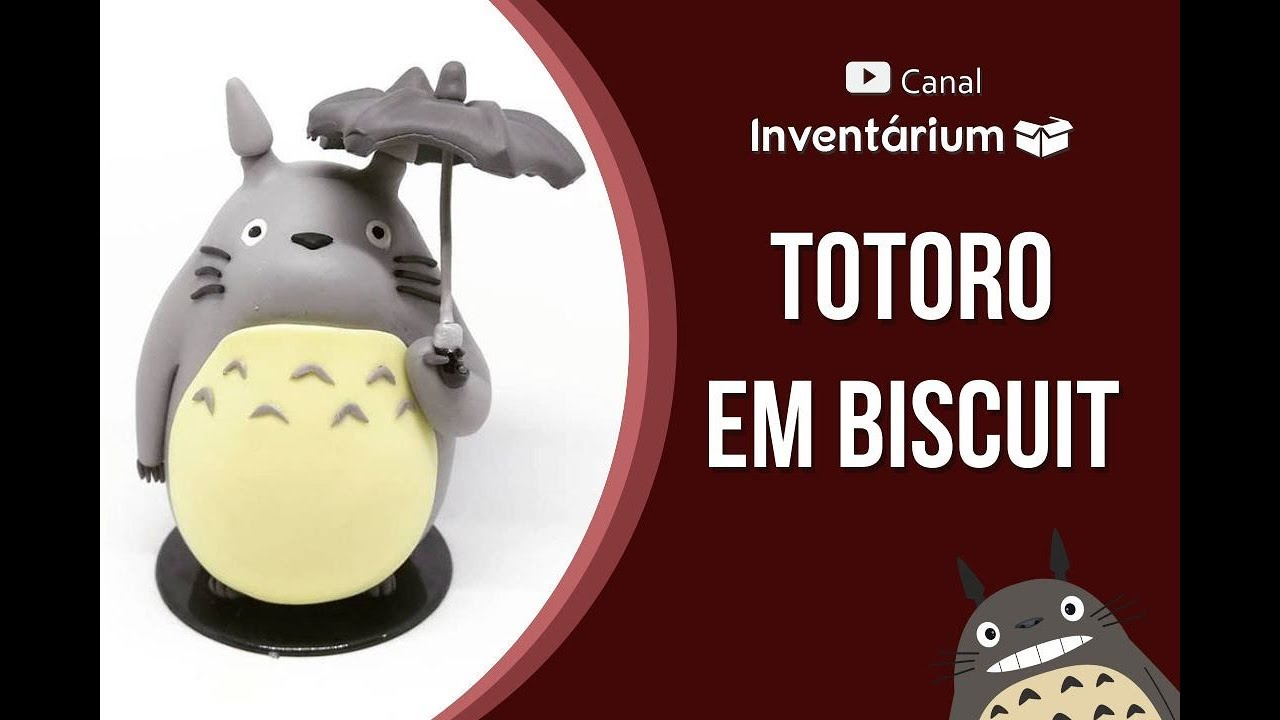Totoro: (129, 57, 495, 616), (940, 525, 1179, 720)
